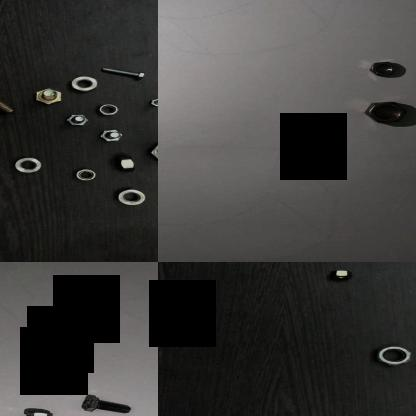Bolts: (75, 395, 133, 416), (72, 294, 110, 326), (98, 62, 146, 83), (32, 87, 66, 107), (0, 83, 20, 116), (96, 126, 124, 146), (144, 137, 158, 167), (11, 408, 56, 416), (64, 115, 90, 128), (142, 97, 158, 108)
NUTS: (371, 100, 416, 126), (110, 184, 150, 208), (368, 346, 416, 366), (12, 153, 46, 175), (365, 61, 397, 82), (67, 74, 100, 93), (110, 153, 136, 175), (323, 267, 356, 284), (66, 167, 100, 183), (92, 101, 118, 119)
